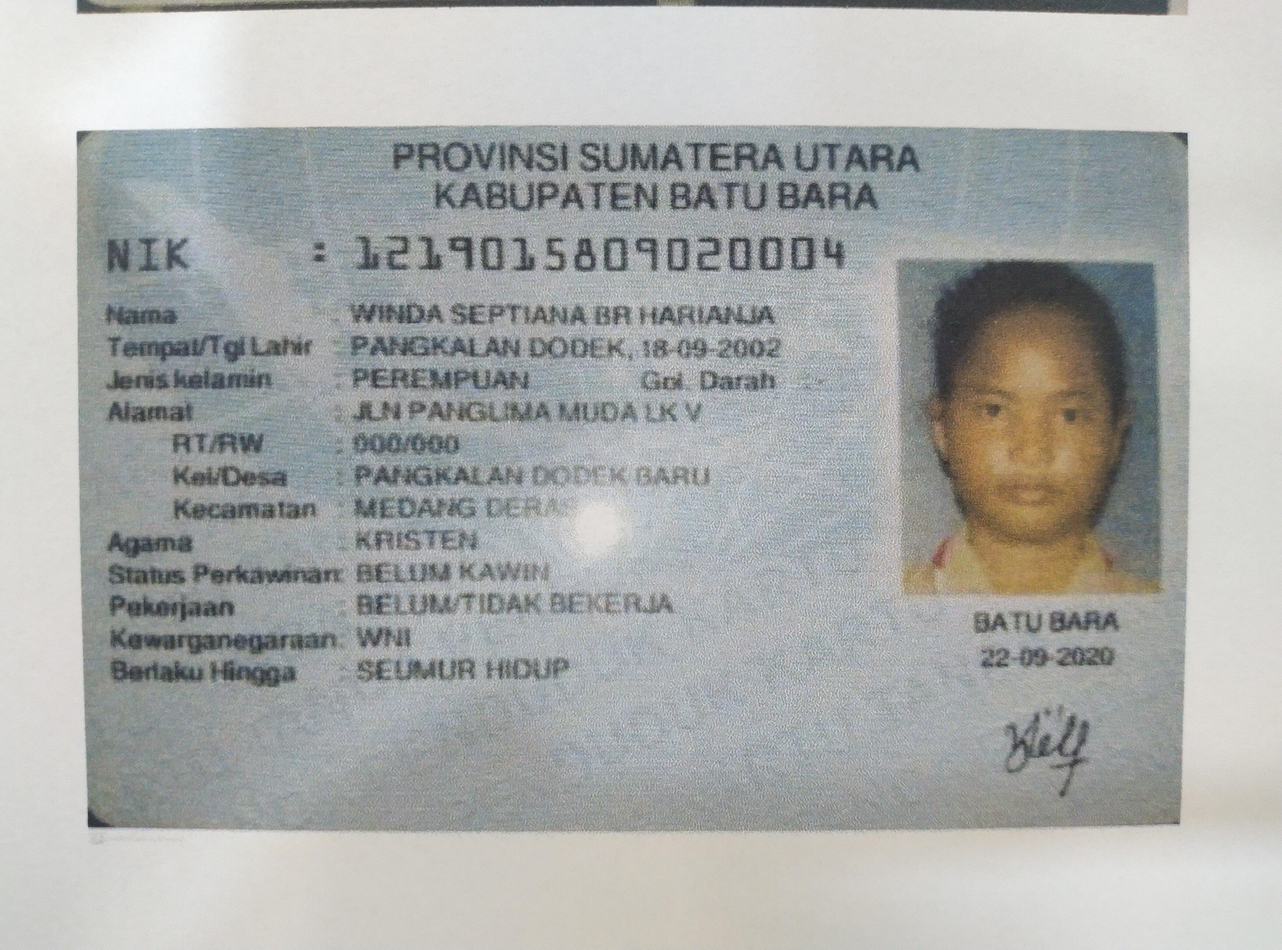ID-card: (83, 136, 1188, 822)
